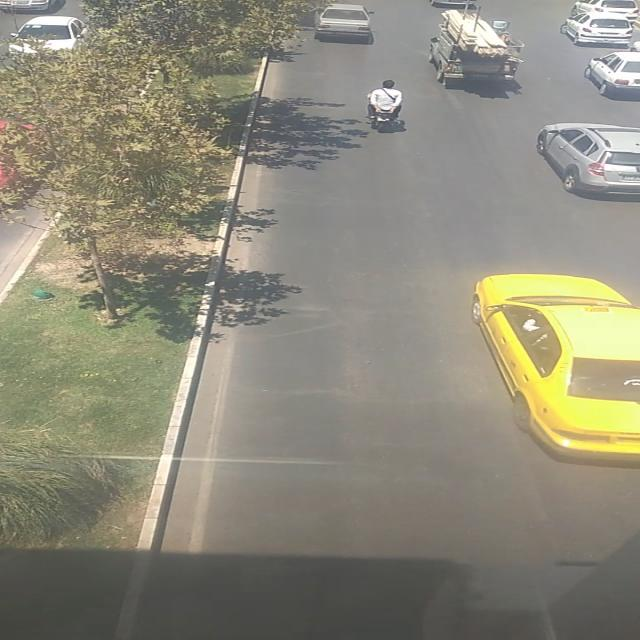car: (471, 274, 640, 460), (538, 122, 640, 201), (429, 32, 526, 86), (9, 15, 87, 55), (581, 53, 640, 97), (560, 12, 629, 46), (310, 5, 372, 39), (569, 2, 639, 22), (0, 0, 55, 12)
motor: (363, 80, 409, 130)
